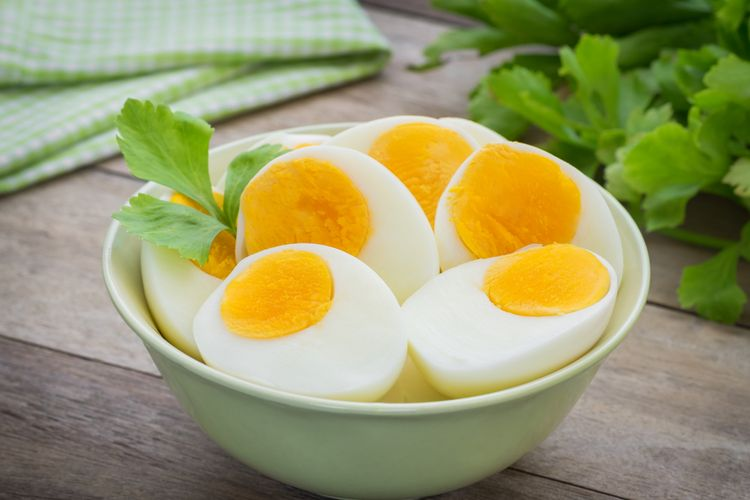Telur: (180, 239, 403, 392), (401, 234, 606, 384), (251, 136, 416, 261), (434, 146, 598, 267), (141, 176, 234, 348), (386, 114, 481, 190)
